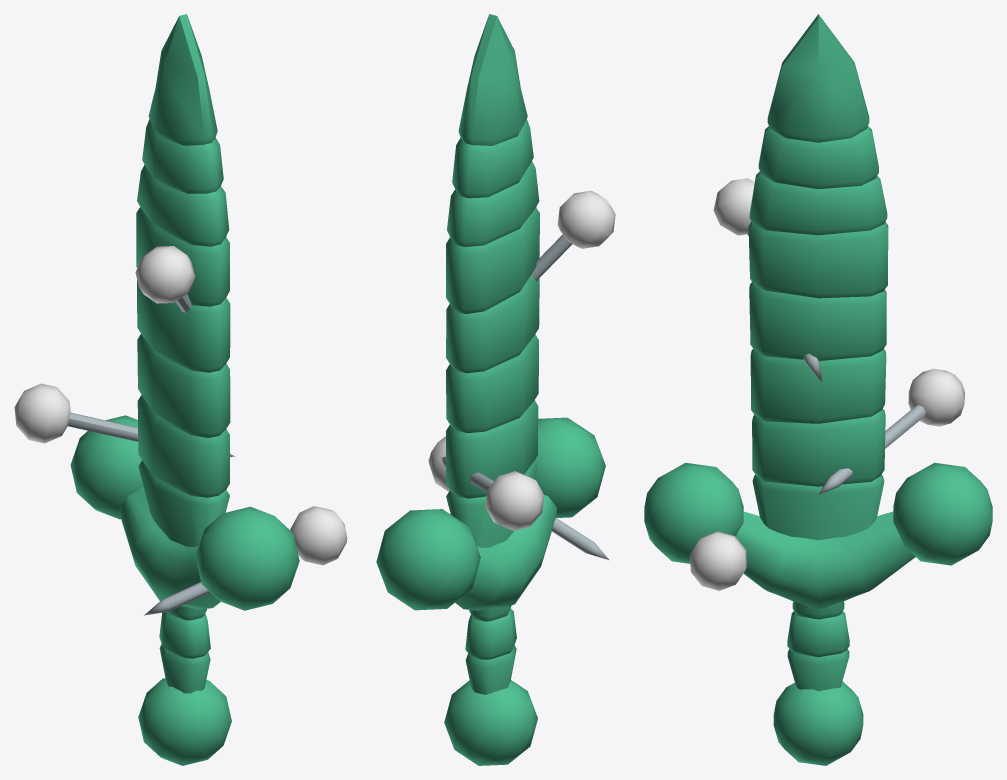
File: knitten_sword.gltf.glb
3 renders of one model, left to right at view 1: azimuth 30°, elevation 25°; view 2: azimuth 150°, elevation 25°; view 3: azimuth 270°, elevation 25°, orthographic.
Parts seen in each view (by area): view 1: knitten_sword; view 2: knitten_sword; view 3: knitten_sword.
Part boxes in pixels (bbox=[...]): knitten_sword: bbox=[14, 14, 347, 765]; knitten_sword: bbox=[376, 14, 615, 765]; knitten_sword: bbox=[644, 14, 992, 765].
Bounding box in the file's own units: 0.553 × 1.83 × 0.7765.
